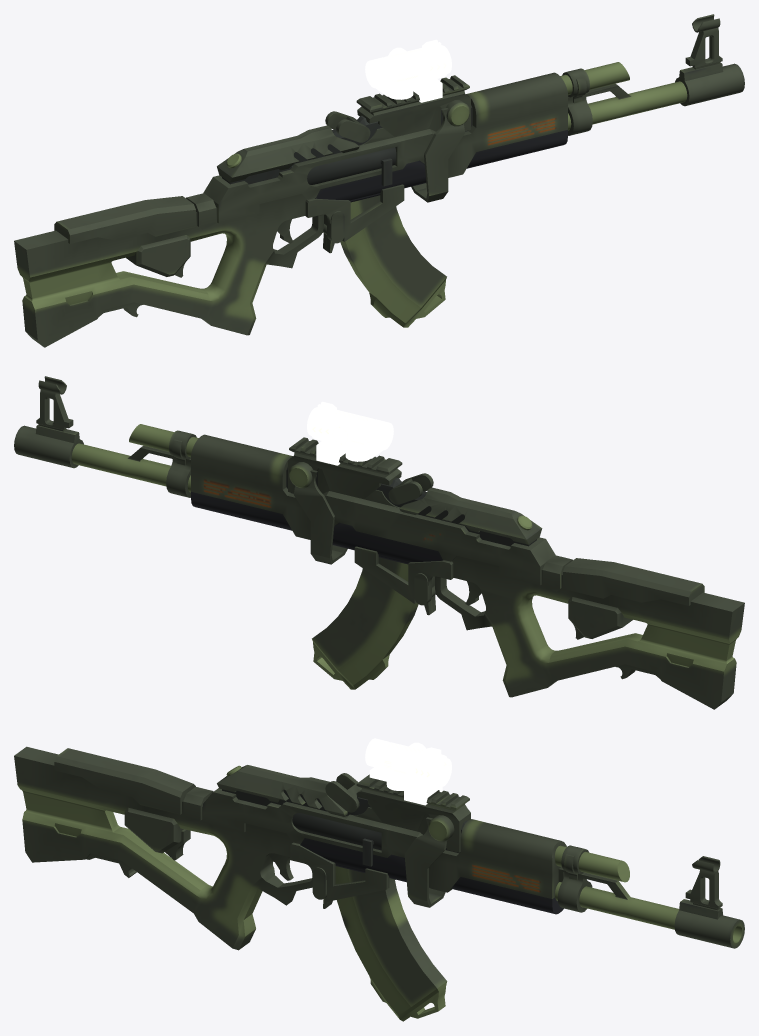
The model's file is Mid_Brick.glb.
3 renders of one model, top to bottom at view 1: azimuth 30°, elevation 25°; view 2: azimuth 150°, elevation 25°; view 3: azimuth 330°, elevation 25°, orthographic.
Visible parts, largest first — view 1: Cube.007_Material_0, Cylinder.002_Scope.001_0; view 2: Cube.007_Material_0, Cylinder.002_Scope.001_0; view 3: Cube.007_Material_0, Cylinder.002_Scope.001_0.
Boxes of the visible parts, left/top/right/bottom form: Cube.007_Material_0: left=14, top=14, right=744, bottom=347; Cylinder.002_Scope.001_0: left=365, top=39, right=451, bottom=102; Cube.007_Material_0: left=14, top=376, right=744, bottom=709; Cylinder.002_Scope.001_0: left=307, top=401, right=393, bottom=465; Cube.007_Material_0: left=14, top=746, right=744, bottom=1021; Cylinder.002_Scope.001_0: left=365, top=738, right=451, bottom=805.
Size of the model in its own units: 9.73 by 3.58 by 0.5232.
2 materials, 2 textured.
